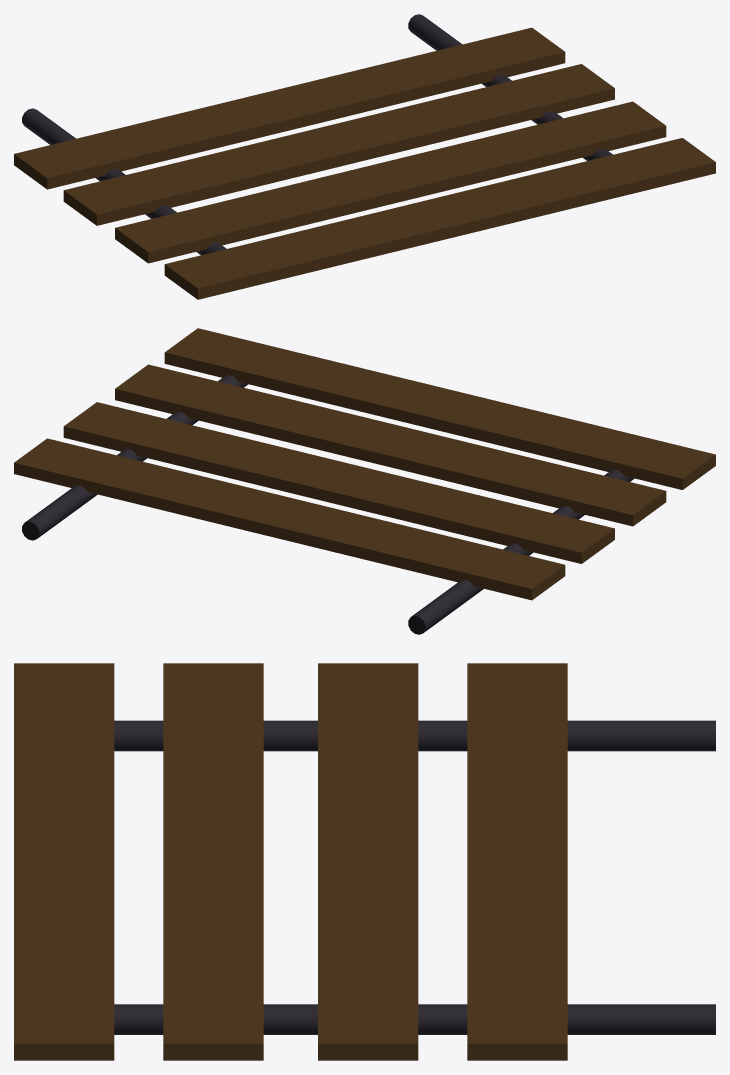
The model's file is CA_069_wooden_planks.glb.
The picture shows the model from 3 angles, top to bottom: view 1: azimuth 30°, elevation 25°; view 2: azimuth 150°, elevation 25°; view 3: azimuth 270°, elevation 25°; orthographic projection. The views are drawn at different scales.
Parts seen in each view (by area): view 1: wooden_planks, support_bars; view 2: wooden_planks, support_bars; view 3: wooden_planks, support_bars.
Part boxes in pixels (box(x1,y1,x2,y2)): wooden_planks: box(14, 27, 715, 299); support_bars: box(22, 14, 612, 255); wooden_planks: box(14, 328, 715, 600); support_bars: box(22, 375, 634, 634); wooden_planks: box(14, 663, 567, 1060); support_bars: box(114, 720, 715, 1034).
Bounding box in the file's own units: 2.24 × 0.1041 × 1.75.
